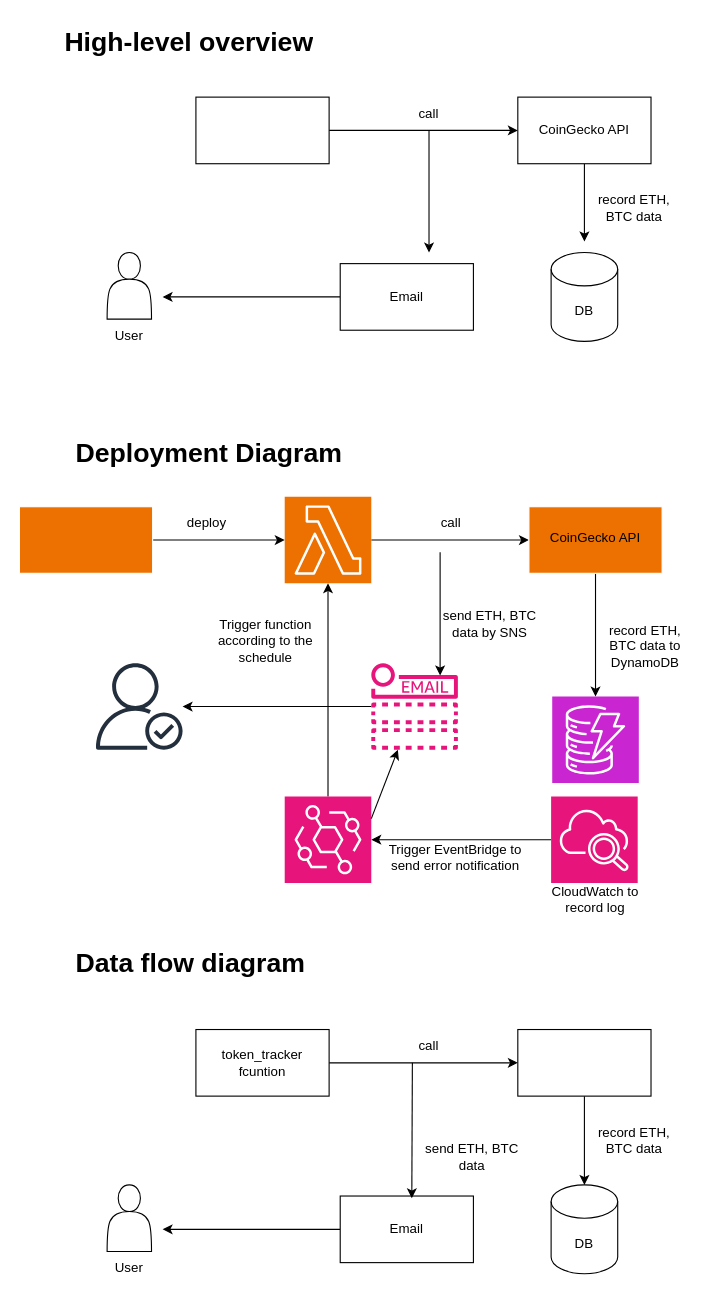
Image size: 715x1303. Some labels were removed from this diagram. The shapes that lost their labels are listed below. From the top down, each one's centre as x and y in pixels, then its label:
At pixel 262 130: "token_tracker function".
At pixel 85 539: "Terraform apply (local)".
At pixel 584 1062: "API".
